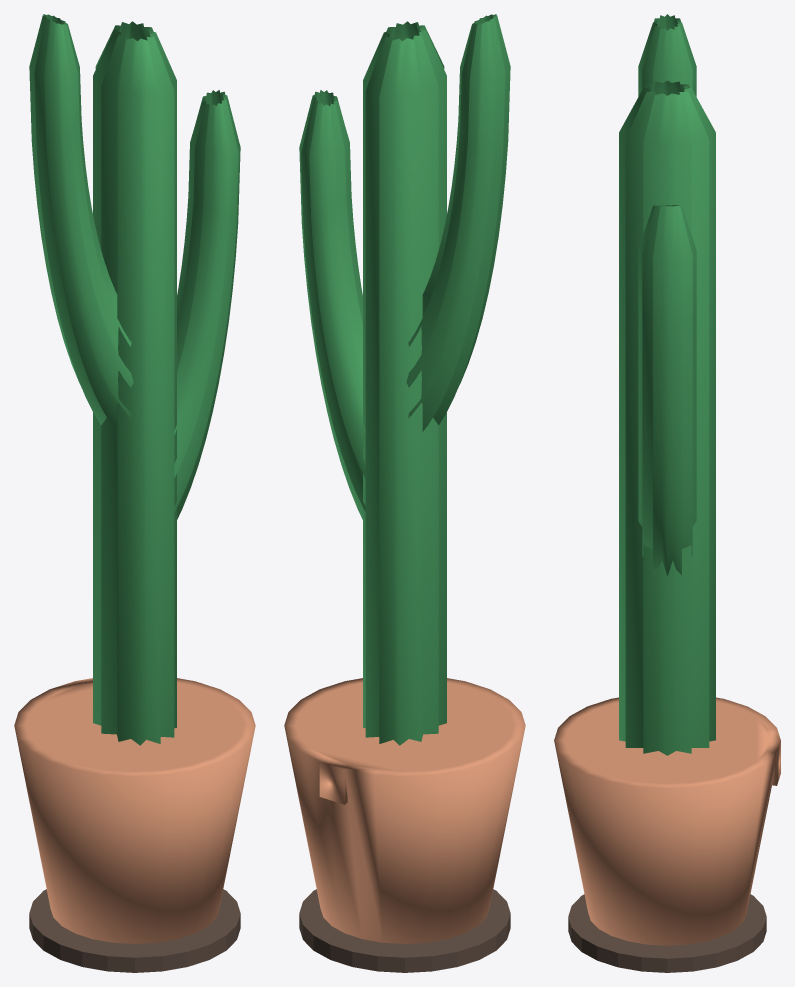
Rendered from cactus.glb.
The picture shows the model from 3 angles, left to right: view 1: azimuth 30°, elevation 25°; view 2: azimuth 150°, elevation 25°; view 3: azimuth 270°, elevation 25°; orthographic projection. The views are drawn at different scales.
Parts seen in each view (by area): view 1: Cactus_Trunk, Cactus_Pot, Cactus_Soil; view 2: Cactus_Trunk, Cactus_Pot, Cactus_Soil; view 3: Cactus_Trunk, Cactus_Pot, Cactus_Soil.
Part boxes in pixels (left/top/right/bottom): Cactus_Trunk: left=29, top=14, right=240, bottom=745; Cactus_Pot: left=14, top=678, right=255, bottom=943; Cactus_Soil: left=29, top=889, right=240, bottom=972; Cactus_Trunk: left=299, top=14, right=510, bottom=745; Cactus_Pot: left=284, top=678, right=525, bottom=943; Cactus_Soil: left=299, top=889, right=510, bottom=972; Cactus_Trunk: left=619, top=14, right=715, bottom=755; Cactus_Pot: left=554, top=697, right=780, bottom=945; Cactus_Soil: left=568, top=894, right=766, bottom=972.
Size of the model in its own units: 3.2 by 13.63 by 3.2.
